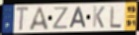A: (28, 6, 51, 32), (69, 6, 88, 30)
K: (92, 5, 106, 29)
L: (110, 5, 123, 29)
T: (15, 6, 30, 33)
Z: (52, 6, 70, 30)
